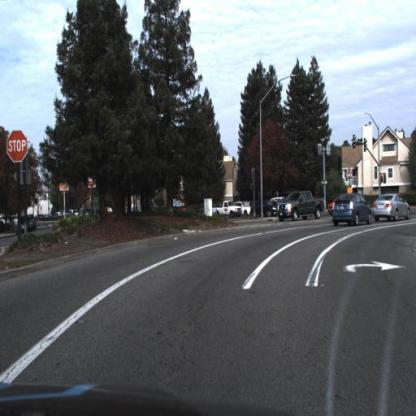car: (275, 184, 326, 227), (322, 193, 364, 235), (368, 189, 416, 225), (215, 199, 244, 219), (16, 214, 38, 235), (327, 191, 340, 218), (242, 201, 253, 219)
